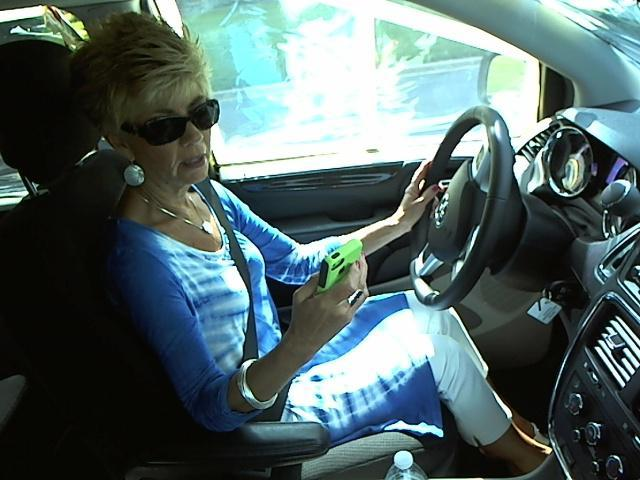PhoneUse: (317, 230, 379, 312)
